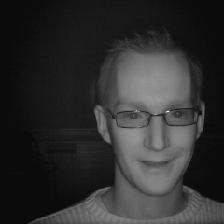happy: (86, 22, 217, 203)
